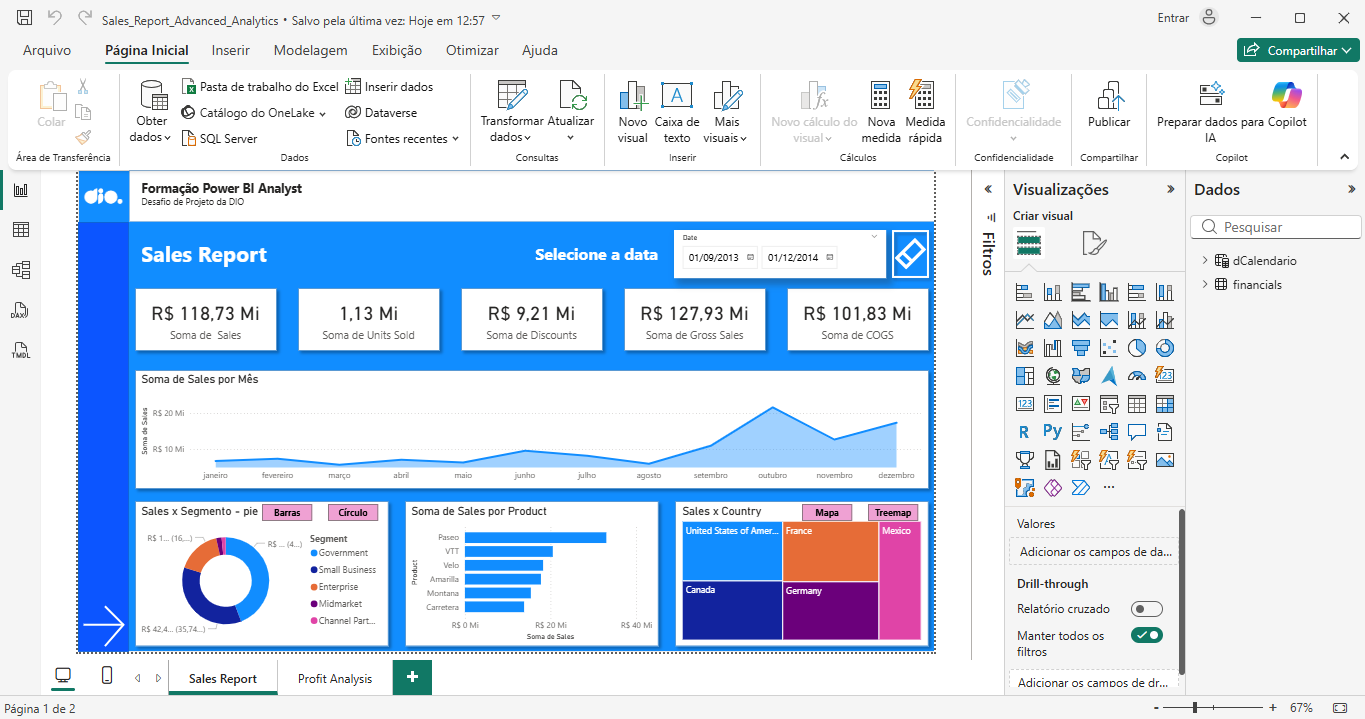

The dashboard page shown, as its layout file describes it:
{"tool":"powerbi","page":{"name":"Sales Report","canvas":[1280,720],"ordinal":0},"visuals":[{"type":"shape","box":[0,0,1280.2,720],"z":0},{"type":"shape","box":[76.1,166.6,230,112],"z":0,"group":"g1"},{"type":"shape","box":[0,77.7,76.2,642.3],"z":1000},{"type":"shape","box":[319.5,166.6,230,112],"z":1000,"group":"g1"},{"type":"group","id":"g1","title":"Grupo 1","box":[76.1,166.6,1203.8,112],"z":2000},{"type":"shape","box":[563,166.6,230,112],"z":2000,"group":"g1"},{"type":"shape","box":[76.2,0,1204,77.7],"z":3000},{"type":"shape","box":[806.4,166.6,230,112],"z":3000,"group":"g1"},{"type":"shape","box":[1049.9,166.6,230,112],"z":4000,"group":"g1"},{"type":"shape","box":[76.2,289.8,1204,195.7],"z":4000},{"type":"shape","box":[76.7,485,396.7,235],"z":5000},{"type":"shape","box":[480,485,396.7,235],"z":6000},{"type":"shape","box":[883.3,485,396.7,235],"z":7000},{"type":"card","fields":{"Values":["Sum(financials. Sales)"]},"box":[90,178.3,201.7,88.3],"z":8000},{"type":"card","fields":{"Values":["Sum(financials.Units Sold)"]},"box":[333.3,178.3,201.7,88.3],"z":9000},{"type":"card","fields":{"Values":["Sum(financials.Discounts)"]},"box":[576.7,178.3,201.7,88.3],"z":10000},{"type":"card","fields":{"Values":["Sum(financials.Gross Sales)"]},"box":[820,178.3,201.7,88.3],"z":11000},{"type":"card","fields":{"Values":["Sum(financials.COGS)"]},"box":[1063.3,178.3,201.7,88.3],"z":12000},{"type":"areaChart","fields":{"Category":["dCalendario.Date.Variation.Hierarquia de datas.Mês"],"Y":["Sum(financials. Sales)"]},"box":[90,301.7,1175,171.7],"z":13000},{"type":"clusteredBarChart","fields":{"Category":["financials.Product"],"Y":["Sum(financials. Sales)"]},"box":[493.3,498.3,370,208.3],"z":14000},{"type":"actionButton","box":[0,642.3,76.2,77.7],"z":15000},{"type":"textbox","box":[678.2,103.1,212.1,44.8],"z":16000},{"type":"slicer","fields":{"Values":["dCalendario.Date"]},"box":[890.3,89.6,316.7,71.7],"z":17000},{"type":"textbox","box":[89.6,97.1,206.1,55.3],"z":18000},{"type":"textbox","box":[89.6,9,271.9,58.3],"z":19000},{"type":"actionButton","box":[1207,80.7,73.2,89.6],"z":20000},{"type":"image","box":[0,0,76.2,77.7],"z":21000},{"type":"barChart","title":"Sales x Segmento","fields":{"Category":["financials.Segment"],"Y":["Sum(financials. Sales)"]},"box":[90,498.3,370,208.3],"z":22000},{"type":"actionButton","box":[275,498.3,75,25],"z":24000},{"type":"actionButton","box":[373.3,498.3,75,25],"z":25000},{"type":"map","title":"Sales por País","fields":{"Category":["financials.Country"],"Size":["Sum(financials. Sales)"]},"box":[898.3,498.3,366.7,208.3],"z":26000},{"type":"actionButton","box":[1081.7,498.3,75,25],"z":28000},{"type":"actionButton","box":[1180,498.3,75,25],"z":29000}]}

Visuals, with their boxes on the page's 1280x720 design canvas (x1, y1, x2, y2). These are canvas units, not pixel positions in the 1365x719 screenshot, which may show the page scaled, cropped or inside an application window:
shape: <box>0,0,1280,720</box>
shape: <box>76,167,306,279</box>
shape: <box>0,78,76,720</box>
shape: <box>320,167,550,279</box>
"Grupo 1" group: <box>76,167,1280,279</box>
shape: <box>563,167,793,279</box>
shape: <box>76,0,1280,78</box>
shape: <box>806,167,1036,279</box>
shape: <box>1050,167,1280,279</box>
shape: <box>76,290,1280,486</box>
shape: <box>77,485,473,720</box>
shape: <box>480,485,877,720</box>
shape: <box>883,485,1280,720</box>
card - Sum(financials. Sales): <box>90,178,292,267</box>
card - Sum(financials.Units Sold): <box>333,178,535,267</box>
card - Sum(financials.Discounts): <box>577,178,778,267</box>
card - Sum(financials.Gross Sales): <box>820,178,1022,267</box>
card - Sum(financials.COGS): <box>1063,178,1265,267</box>
areaChart - dCalendario.Date.Variation.Hierarquia de datas.Mês x Sum(financials. Sales): <box>90,302,1265,473</box>
clusteredBarChart - financials.Product x Sum(financials. Sales): <box>493,498,863,707</box>
actionButton: <box>0,642,76,720</box>
textbox: <box>678,103,890,148</box>
slicer - dCalendario.Date: <box>890,90,1207,161</box>
textbox: <box>90,97,296,152</box>
textbox: <box>90,9,362,67</box>
actionButton: <box>1207,81,1280,170</box>
image: <box>0,0,76,78</box>
"Sales x Segmento" barChart: <box>90,498,460,707</box>
actionButton: <box>275,498,350,523</box>
actionButton: <box>373,498,448,523</box>
"Sales por País" map: <box>898,498,1265,707</box>
actionButton: <box>1082,498,1157,523</box>
actionButton: <box>1180,498,1255,523</box>
